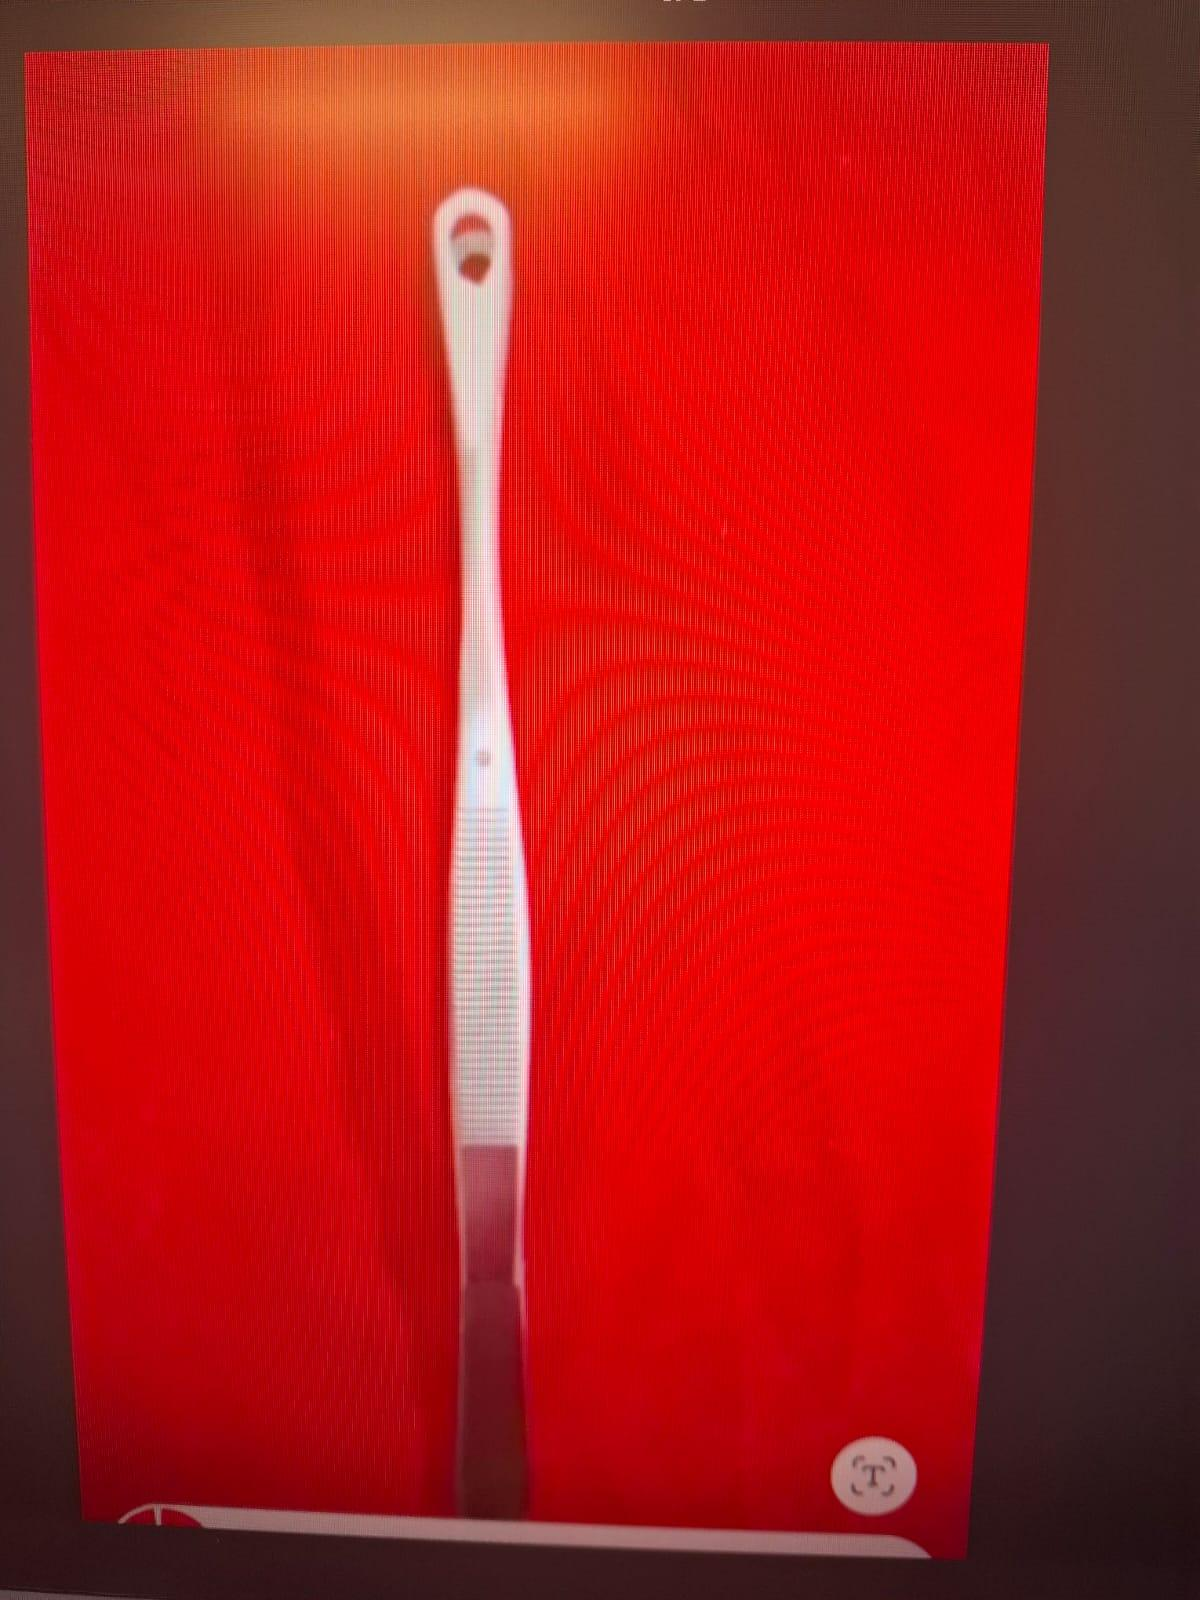Eye Intestinal Forceps: (382, 190, 585, 1532)
